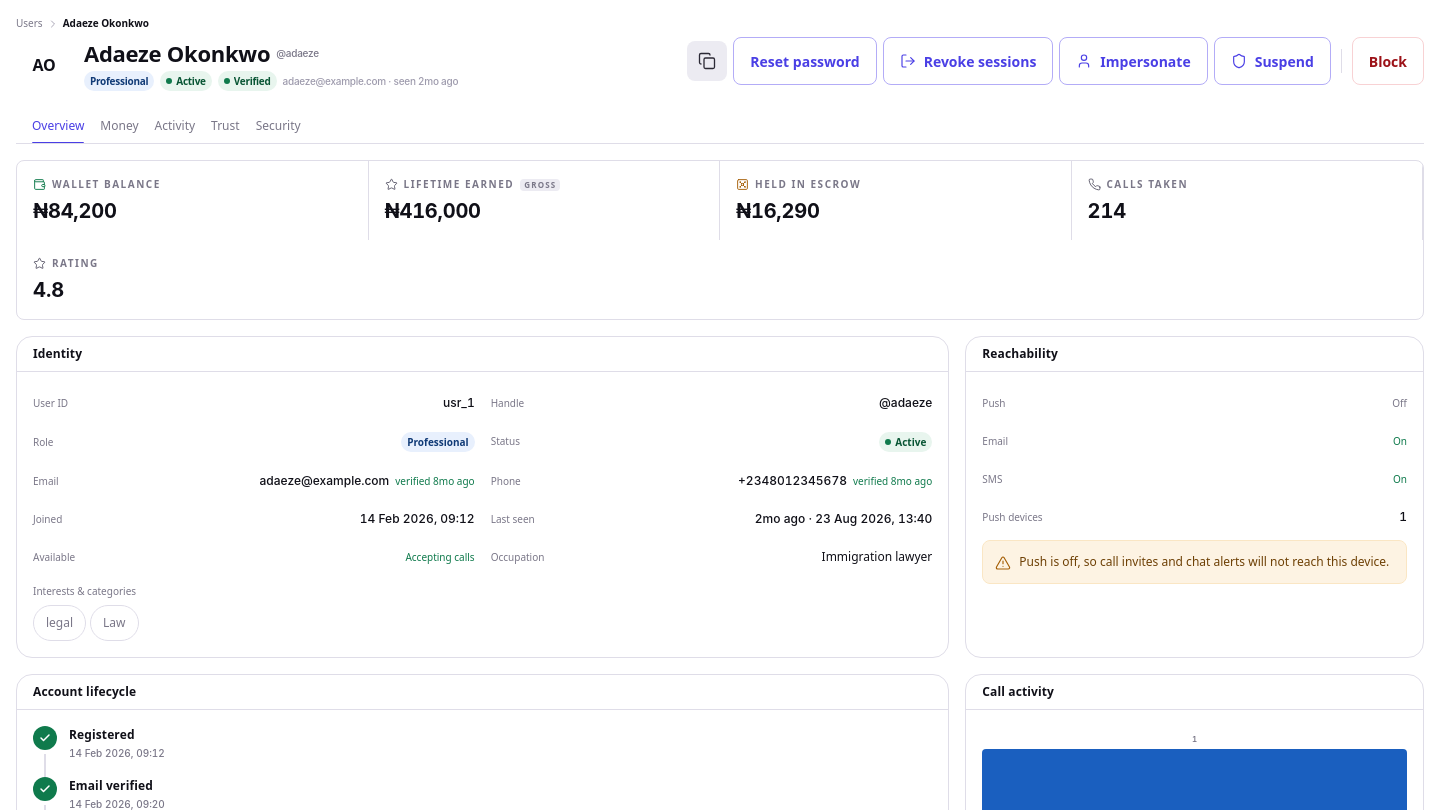
the user detail screen › says the chat panel shows volume only
Click the tab "Activity" at (175, 126), box [155, 109, 195, 143]
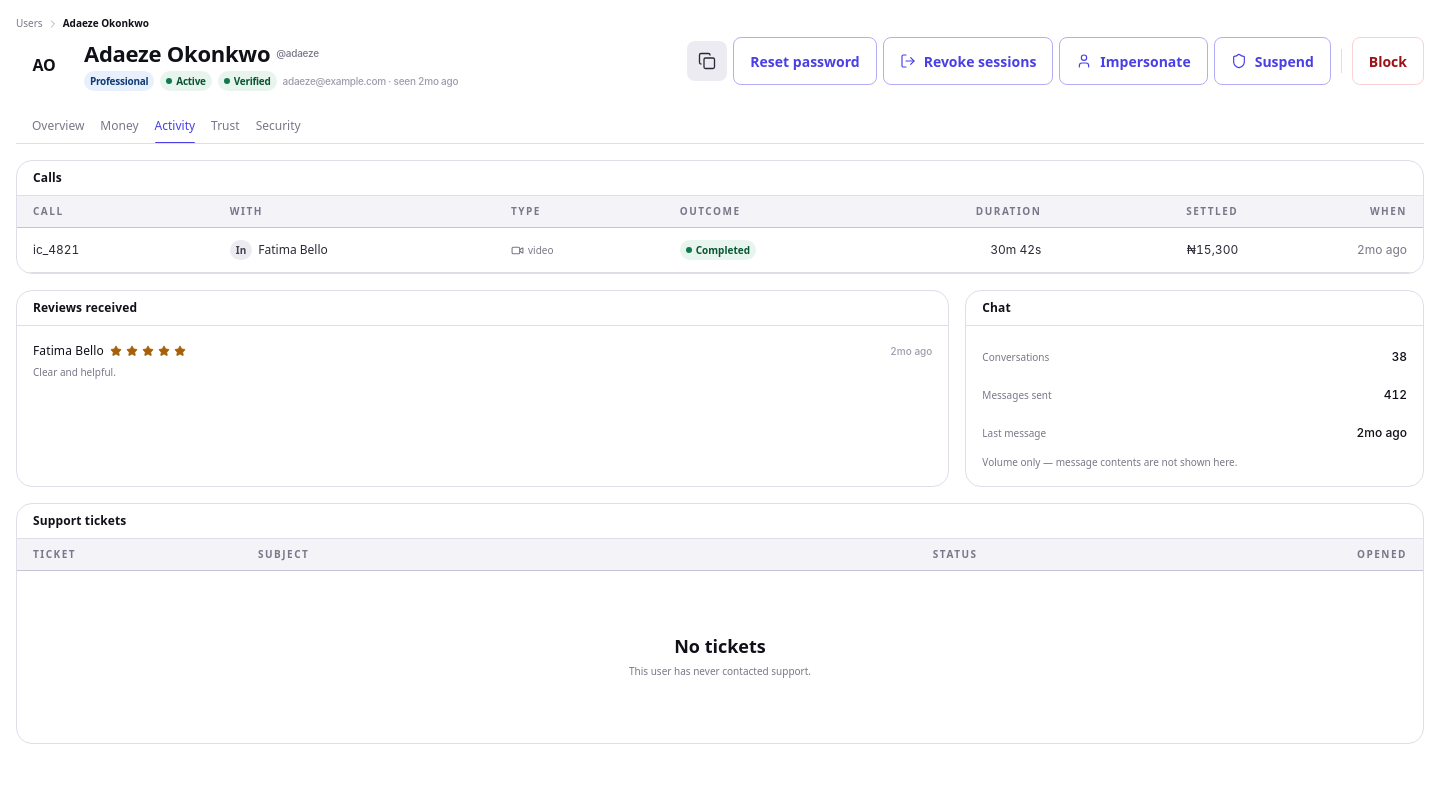
expect the text "Volume only — message contents are not shown here." is shown: met, box [982, 455, 1237, 469]
